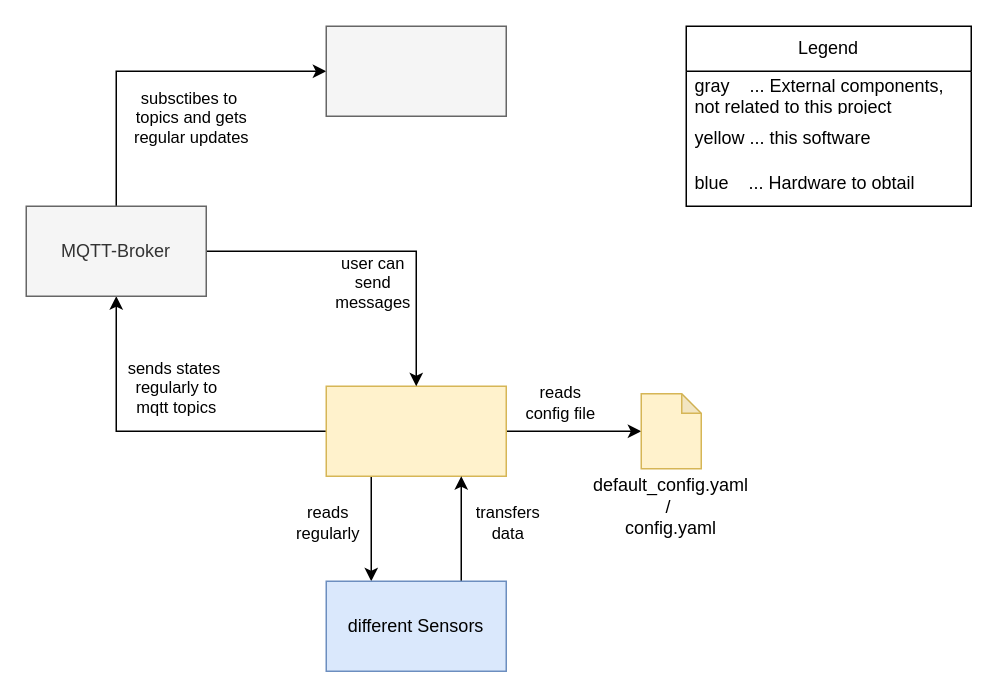
The diagram is 998 pixels wide and 698 high, and some of its shapes have lost their labels. Each missing label, with the box of its shape:
Homeautomation Hub (eg. Homeassistant): (325, 25, 506, 116)
Raspi-Controller: (325, 385, 506, 476)
